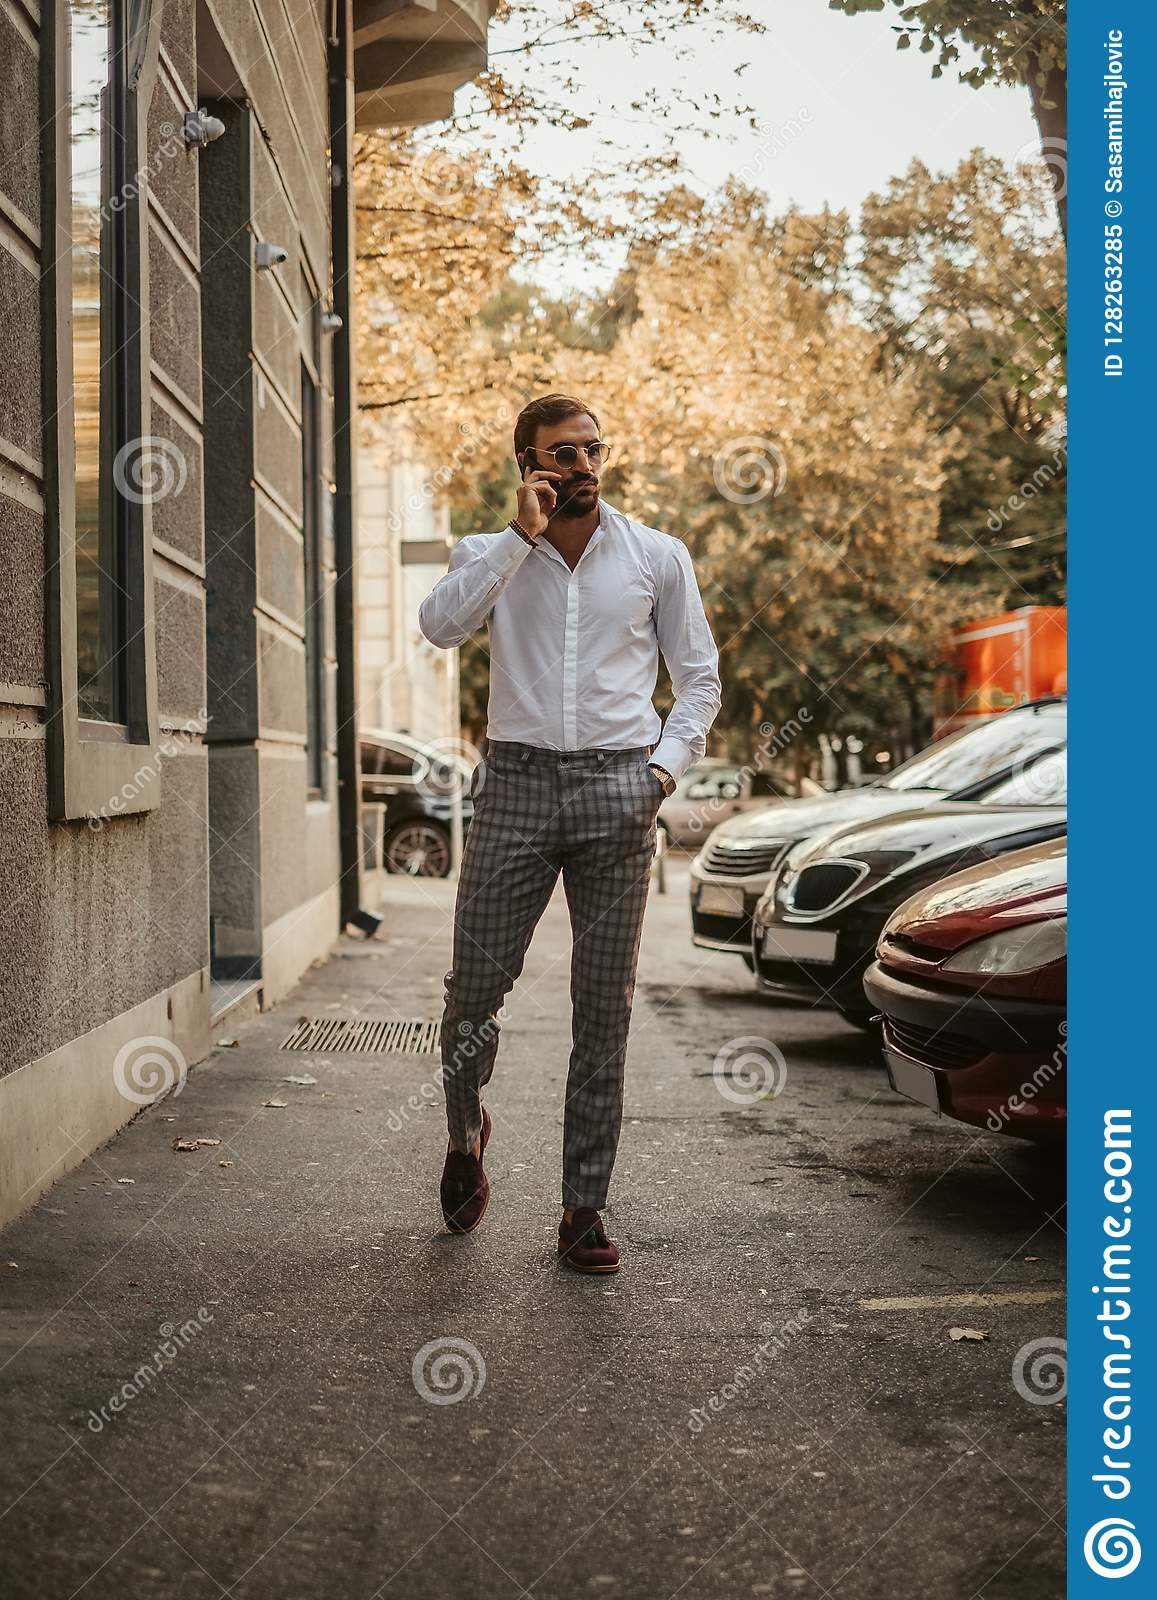phone: (521, 457, 565, 516)
talk: (516, 434, 601, 535)
